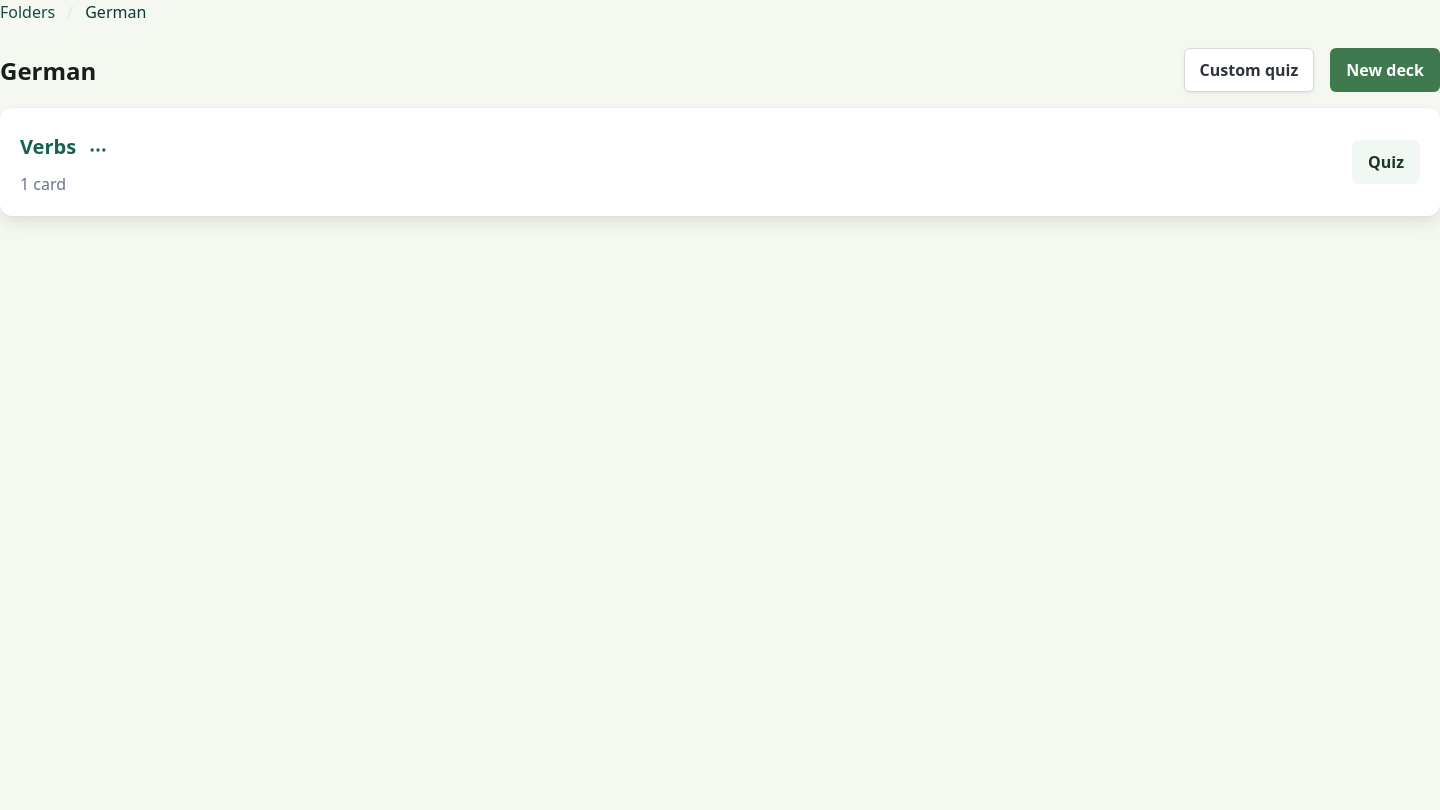
FolderView › names the card count before deleting a deck
Click the button with test id "deck-menu" at point(98, 150), box [76, 128, 120, 172]
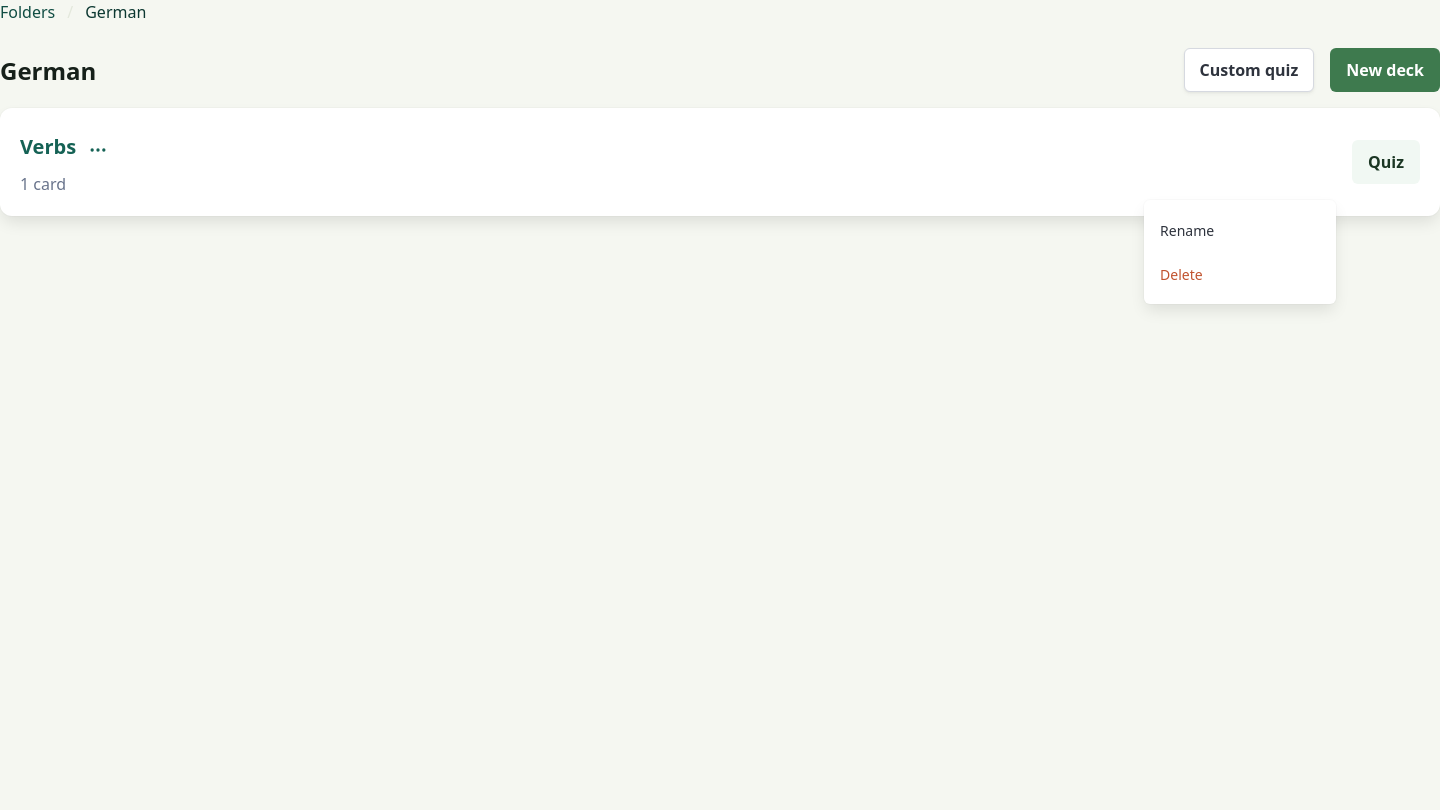
Click the button with test id "deck-delete" at point(1240, 274), box [1144, 252, 1336, 296]
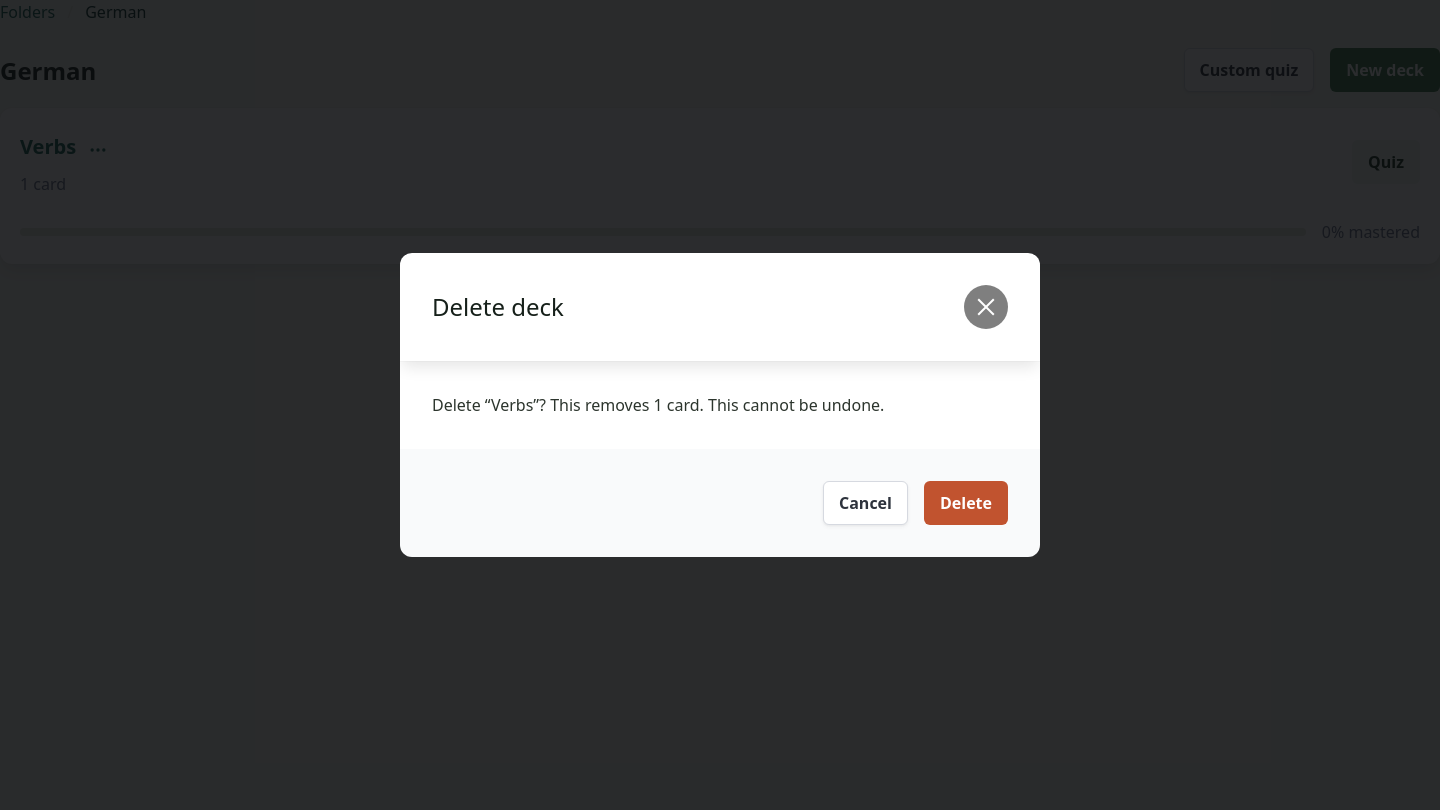
Result: the text with test id "confirm-message" reads "Delete “Verbs”? This removes 1 card. This cannot be undone." at [432, 394, 884, 416]
